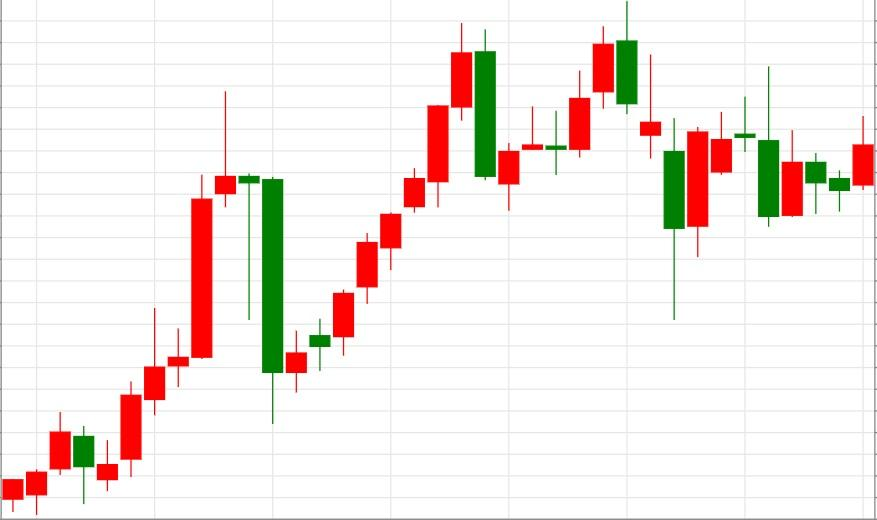bearish_engulfing_fall: (261, 21, 497, 422), (497, 0, 639, 210)
